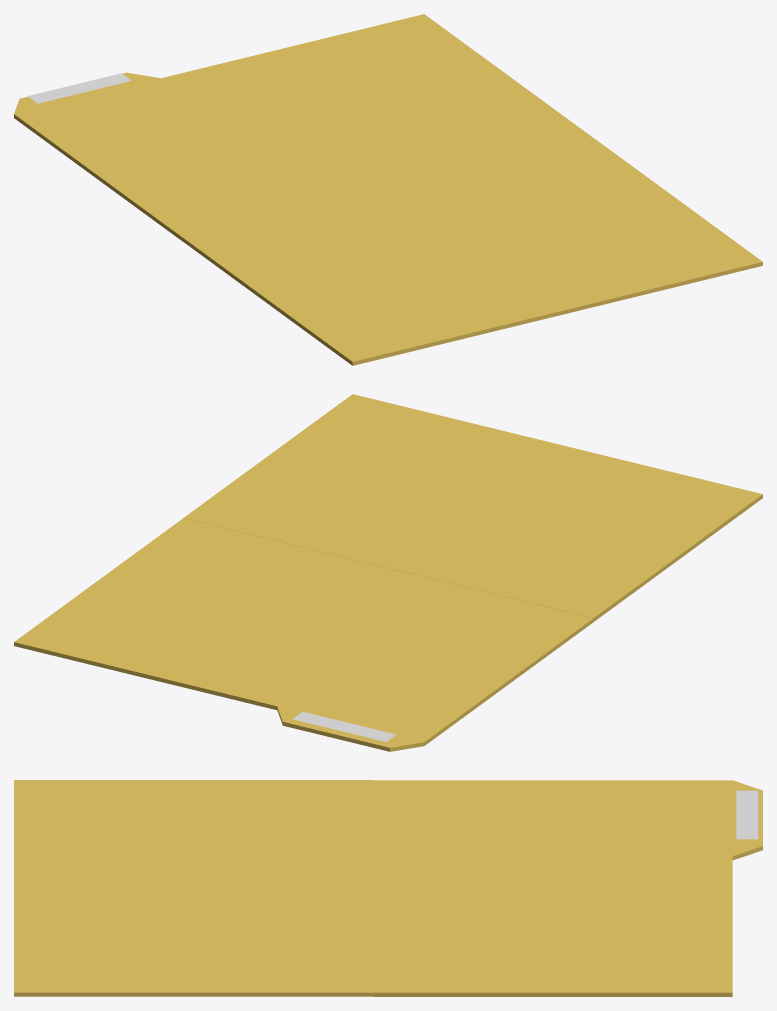
Rendered from Folder.fbx.
3 renders of one model, top to bottom at view 1: azimuth 30°, elevation 25°; view 2: azimuth 150°, elevation 25°; view 3: azimuth 270°, elevation 25°, orthographic. The views are drawn at different scales.
Visible parts, largest first — view 1: Bot, Top; view 2: Bot, Top; view 3: Bot, Top.
Part boxes in pixels (<box>): Bot: <box>14,14,592,241</box>; Top: <box>183,138,762,365</box>; Bot: <box>14,518,593,751</box>; Top: <box>184,394,762,621</box>; Bot: <box>373,780,762,996</box>; Top: <box>14,780,372,996</box>.
Size of the model in its own units: 0.35 by 0.00716 by 0.5216.
